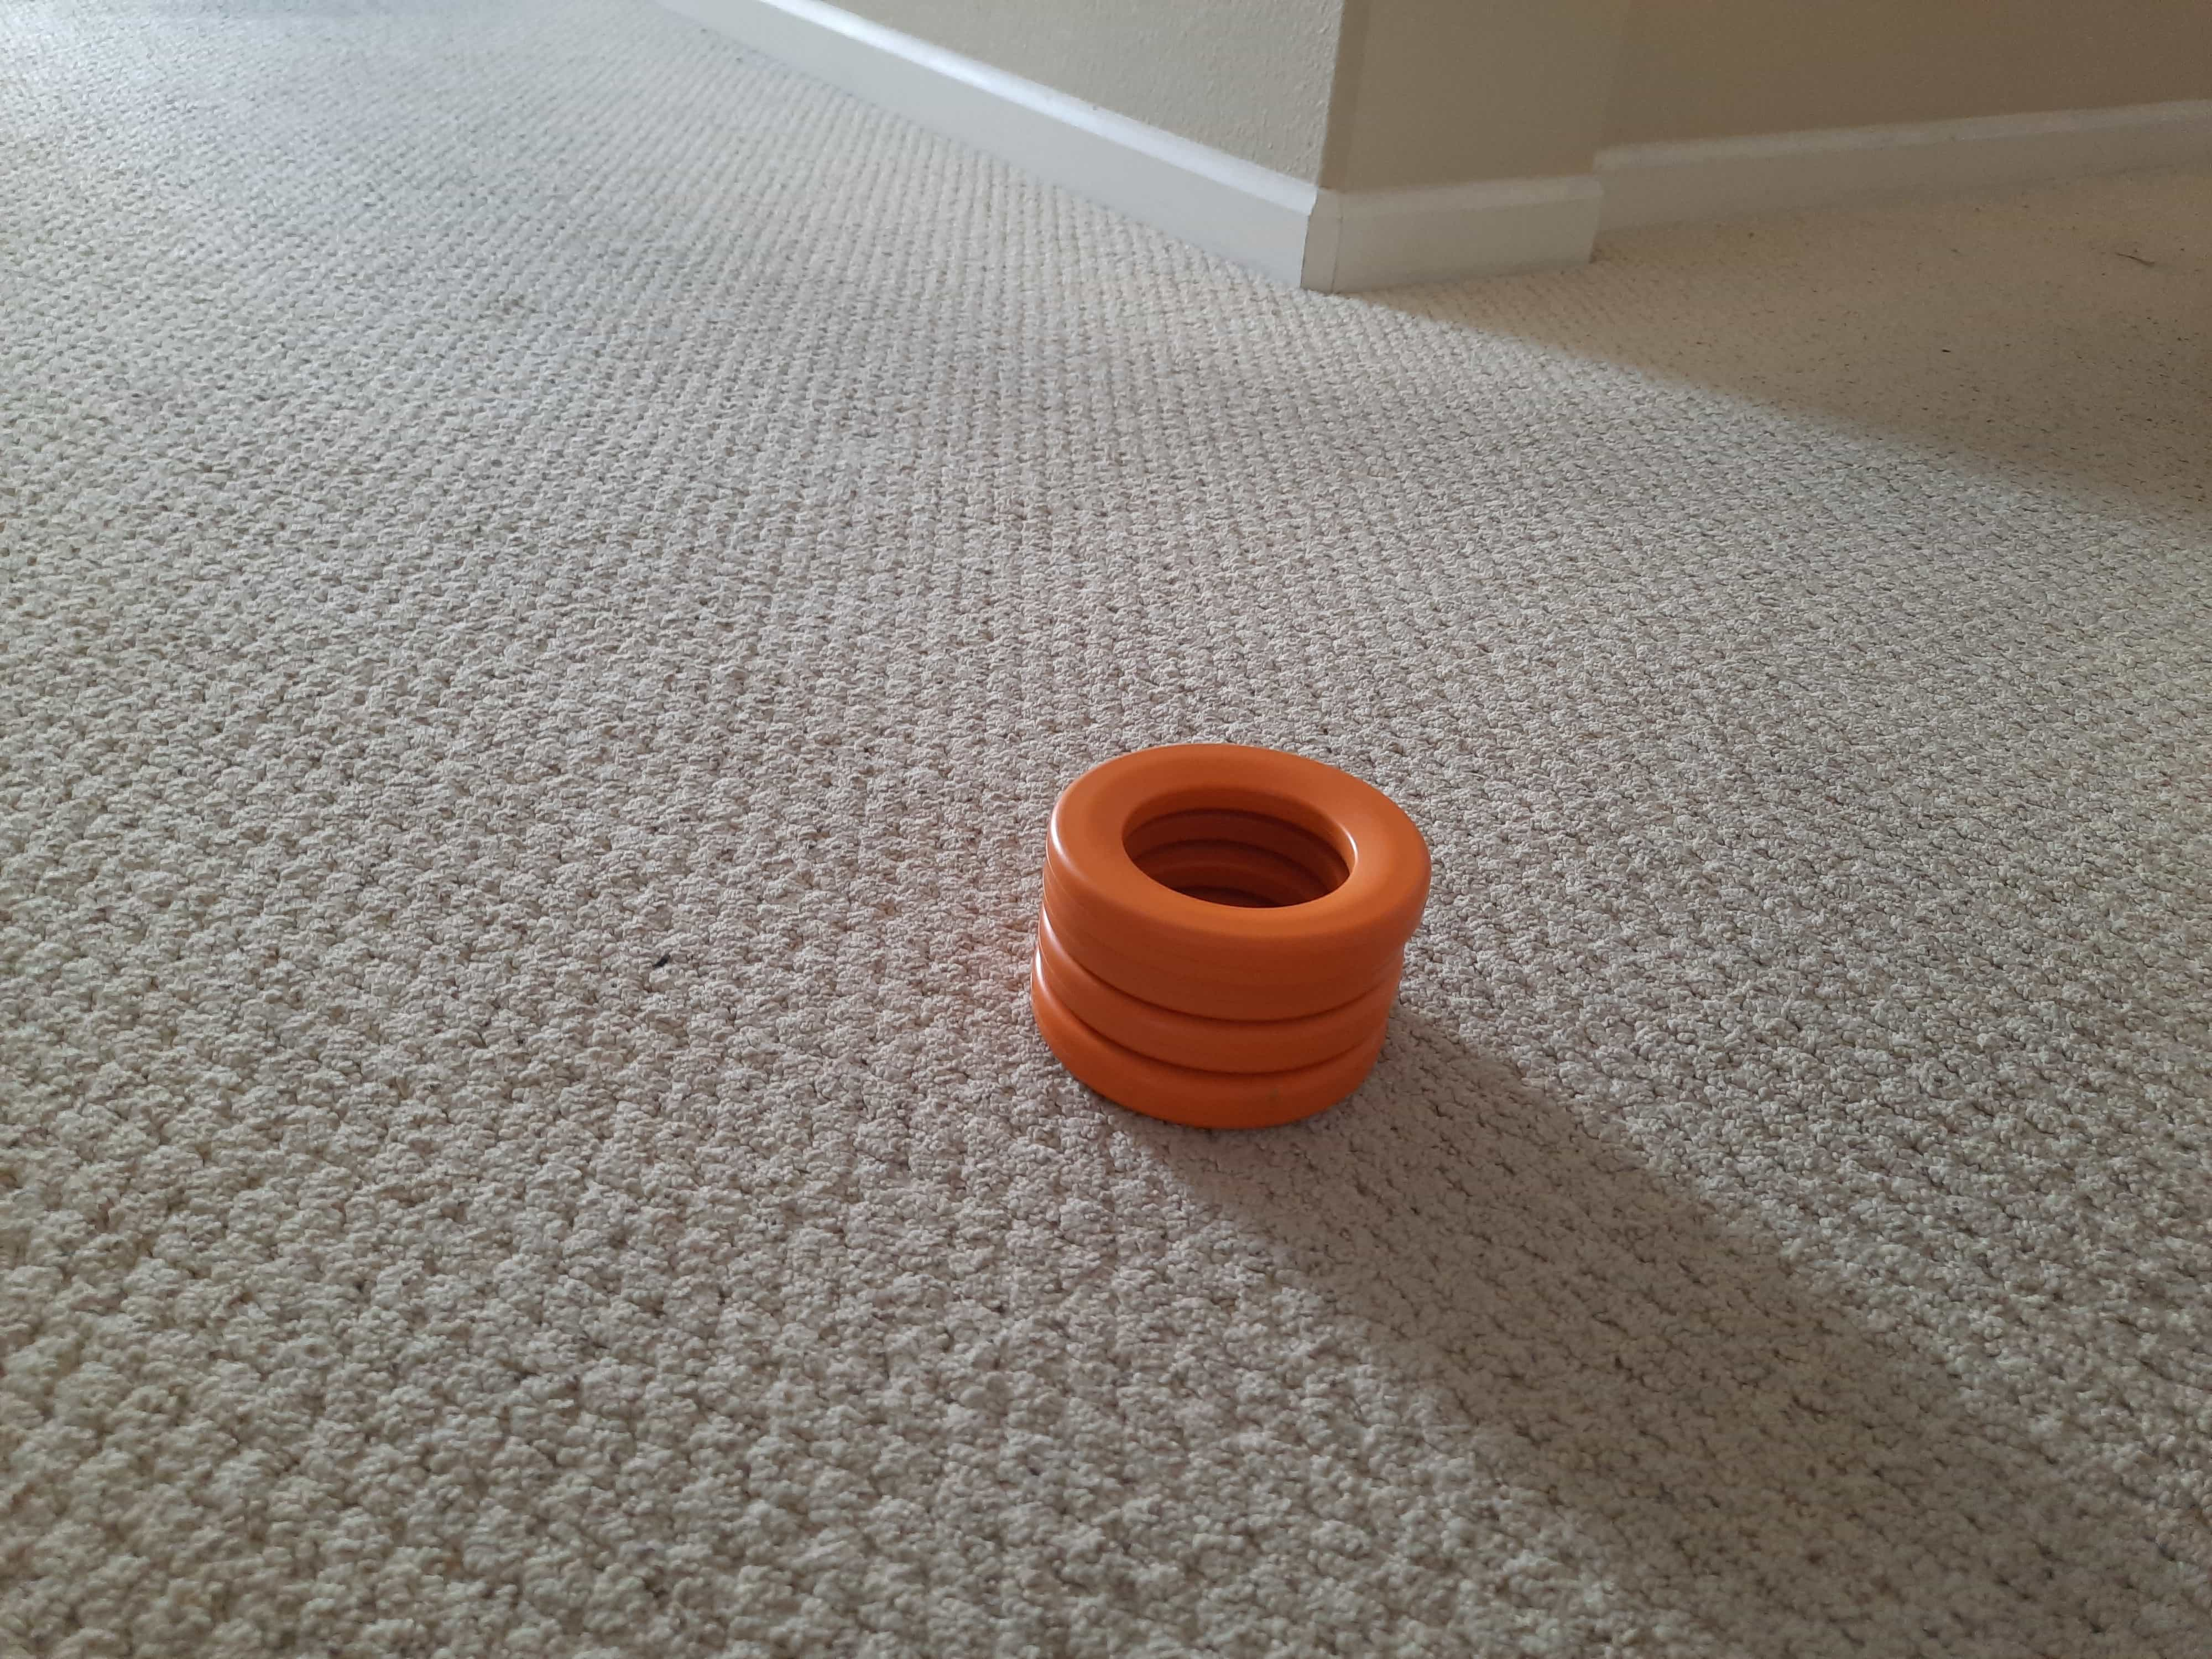FourStack: (1035, 744, 1421, 1134)
